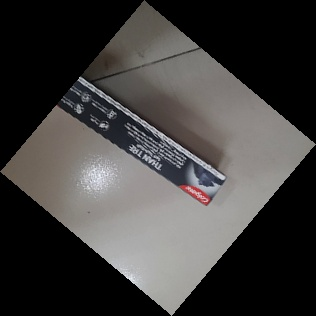Colgate Than: (55, 66, 229, 209)
